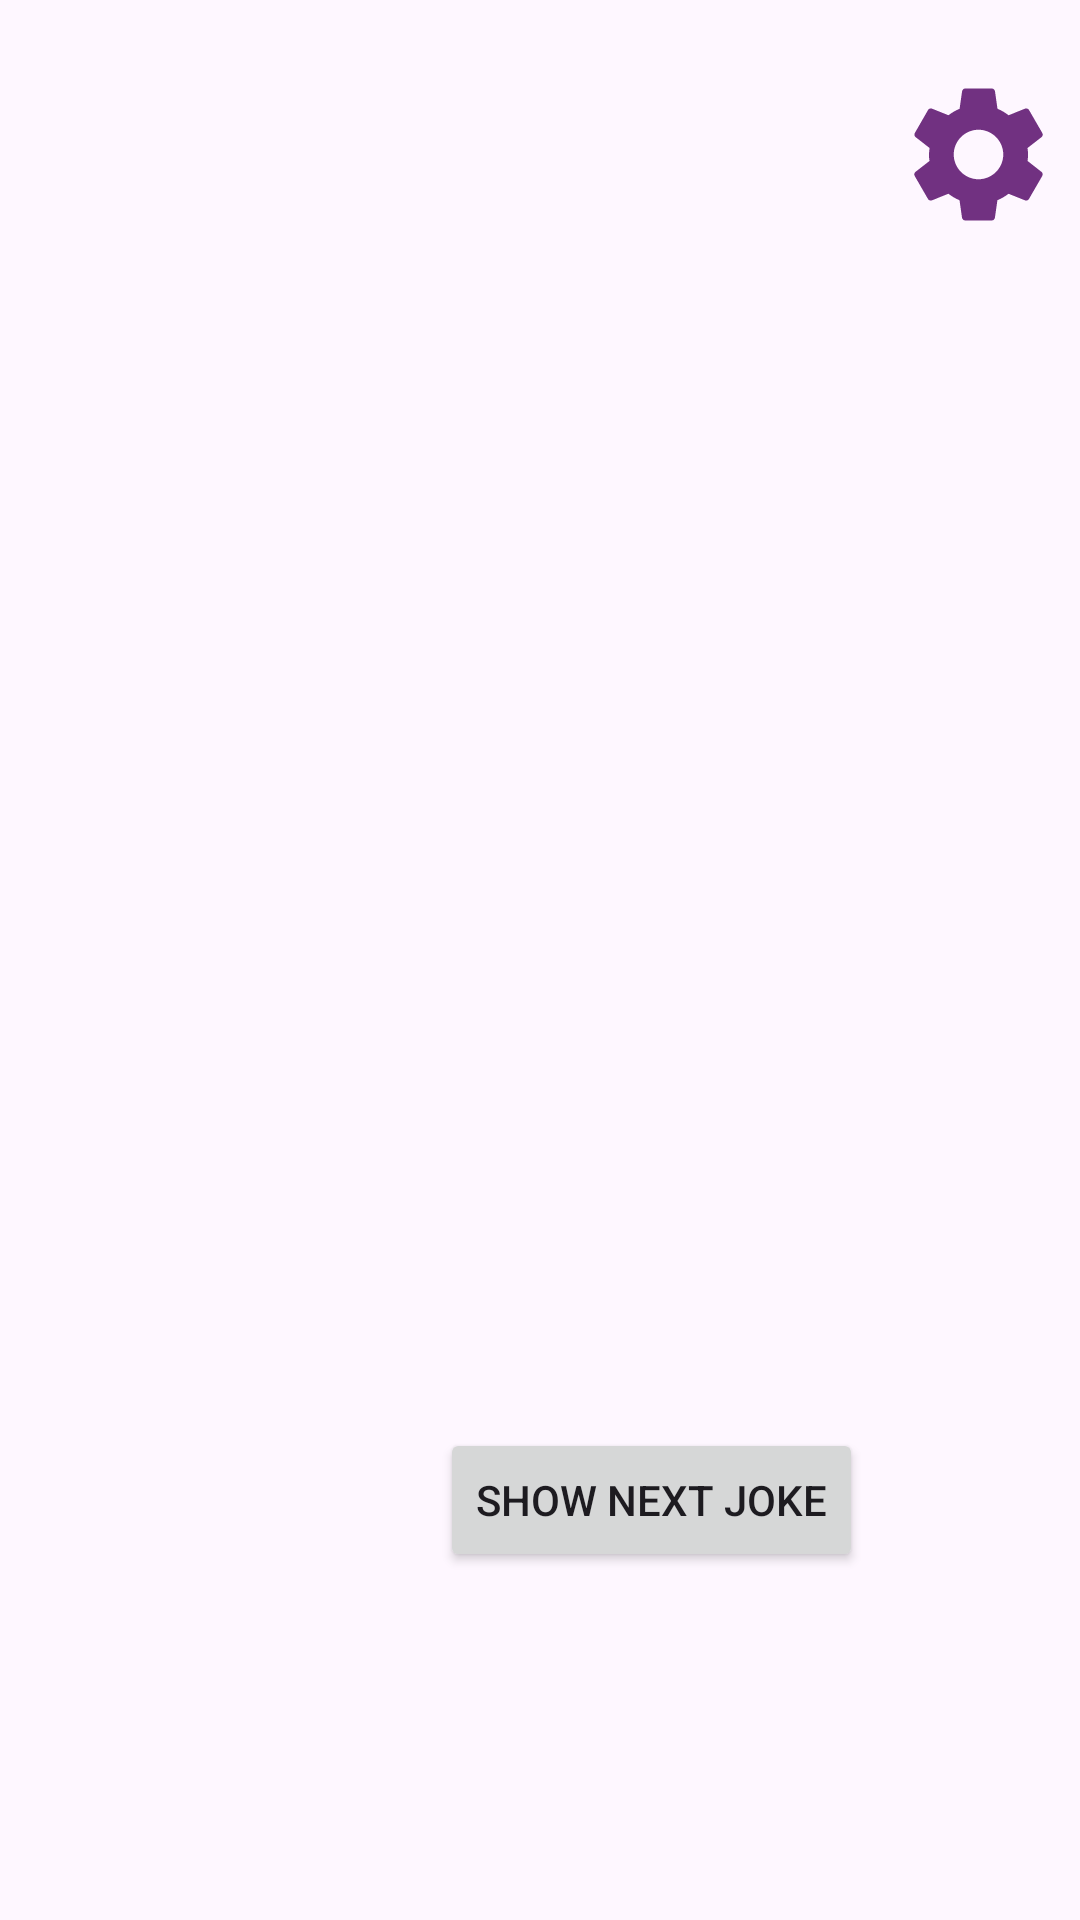

Locate icon controls on the screen. Image size 1080x1920, boxes as (x1, y1, x2, y2).
settings: (914, 88, 1043, 221)
